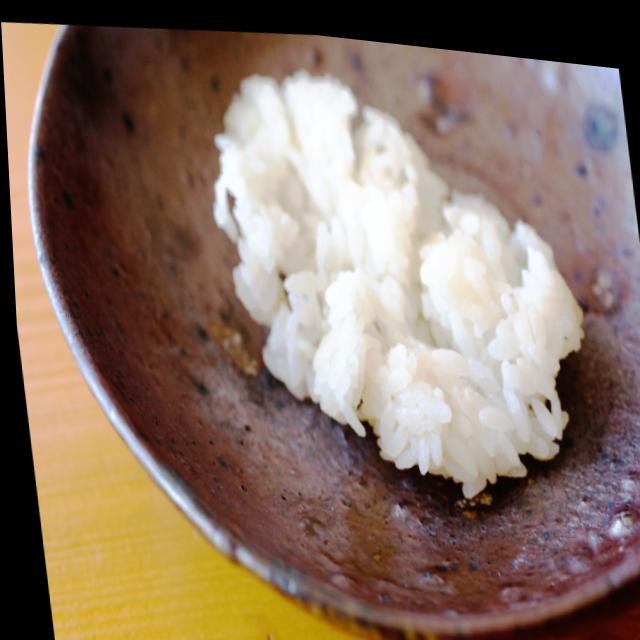rice: (192, 40, 608, 532)
